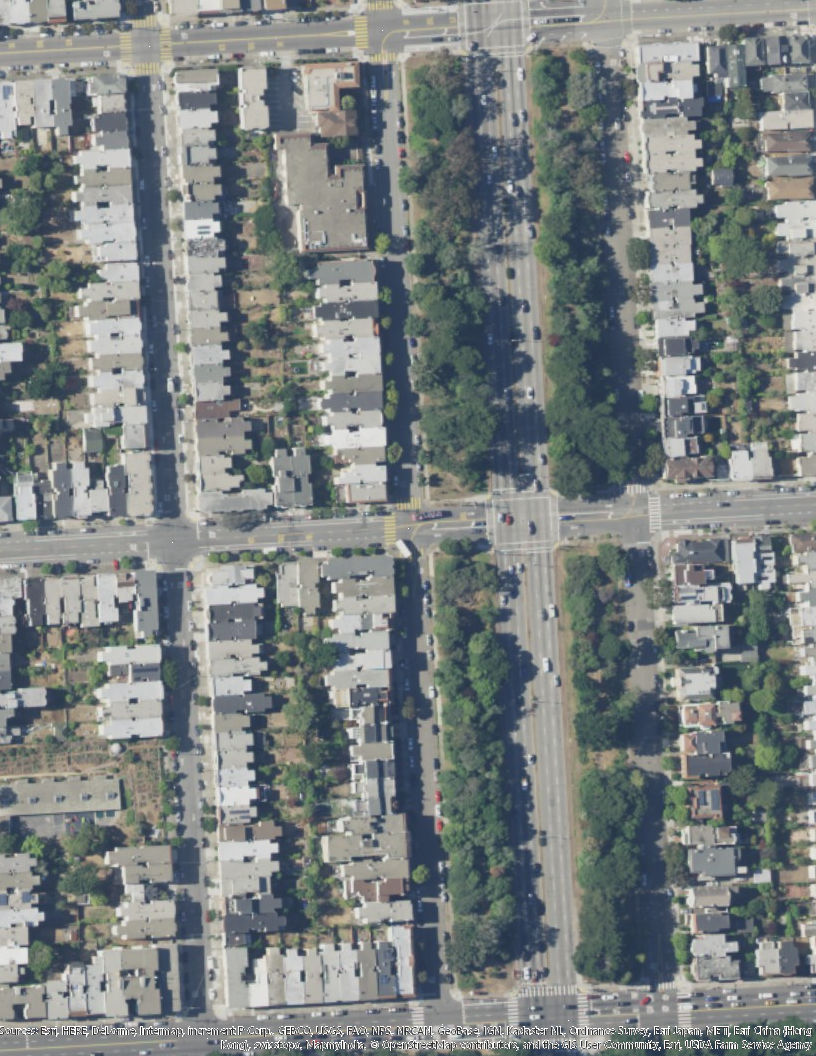zebracross: (647, 493, 662, 533), (519, 986, 579, 996), (353, 15, 369, 50), (637, 977, 675, 990), (678, 993, 692, 1028), (158, 28, 173, 60), (119, 31, 133, 63), (576, 995, 590, 1026), (384, 513, 396, 546), (133, 62, 159, 76), (396, 497, 422, 511), (506, 1000, 519, 1026), (129, 16, 157, 28), (410, 1006, 426, 1026), (624, 482, 647, 495), (367, 1, 394, 11), (370, 53, 396, 62)
